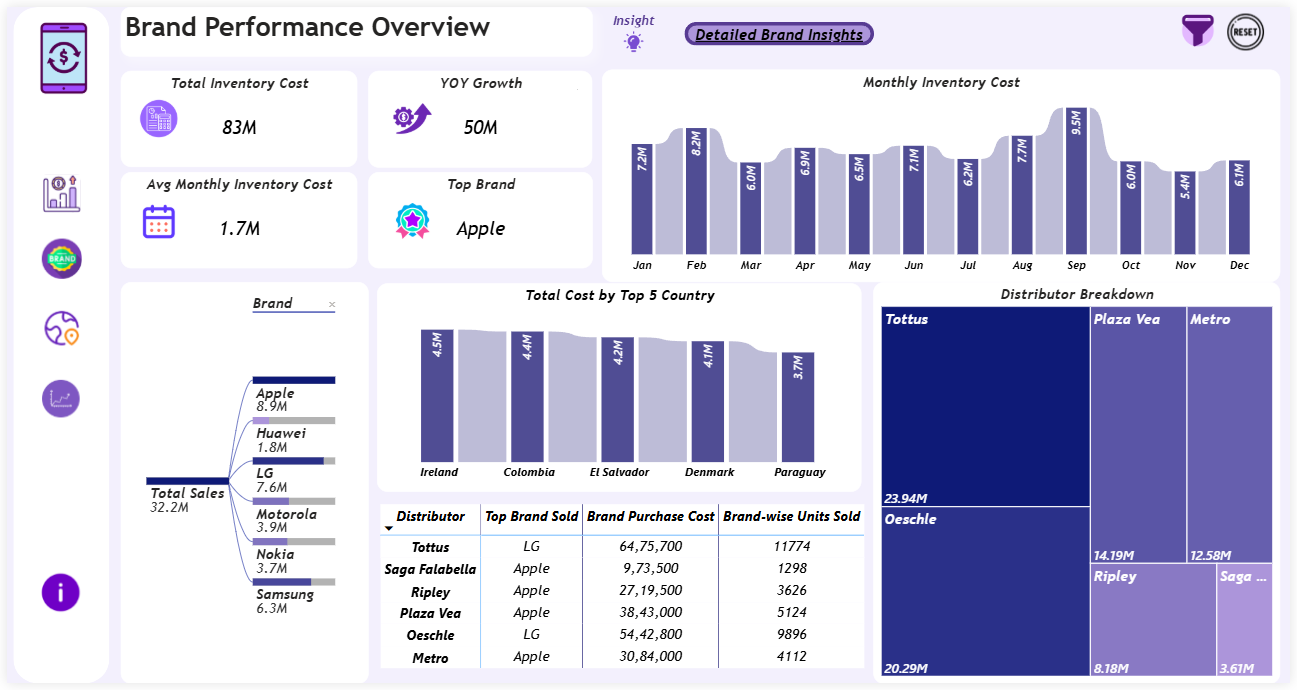

This screenshot's page, from the dashboard's own definition file:
{"tool":"powerbi","page":{"name":"BRAND-OVERVIEW+DRILLTRHOUGH","canvas":[1800,950],"ordinal":1},"visuals":[{"type":"actionButton","box":[228.8,232,2.7,61],"z":0,"group":"g1"},{"type":"actionButton","box":[37.3,232.1,79.7,61.1],"z":0,"group":"g3"},{"type":"pivotTable","title":"Sales by Country & Distributors","fields":{"Rows":["Sales Table.Distributor"],"Values":["Sales Table.Top Brand","Sales Table.Top Brand Purchase Cost","Sales Table.Top Brand Units Sold"]},"box":[519.6,692.9,696.4,257.1],"z":0},{"type":"actionButton","box":[228.8,321.8,2.7,64.4],"z":1000,"group":"g1"},{"type":"actionButton","box":[37.3,322,79.7,64.5],"z":1000,"group":"g3"},{"type":"decompositionTreeVisual","title":"Brand Distribution","fields":{"ExplainBy":["Sales Table.Brand"],"Analyze":["Sales Table.Revenue Generated"]},"box":[158.9,385.7,348.2,564.3],"z":2000},{"type":"actionButton","box":[228.8,421.9,2.7,59.3],"z":2000,"group":"g1"},{"type":"actionButton","box":[37.3,422.1,79.7,59.4],"z":2000,"group":"g3"},{"type":"image","box":[25,21.7,103.3,101.7],"z":3000},{"type":"actionButton","box":[228.3,519.1,3.6,60.7],"z":3000,"group":"g1"},{"type":"actionButton","box":[23.2,519.3,105.4,60.8],"z":3000,"group":"g3"},{"type":"shape","title":"Brand Performance Overview","box":[159.3,0,662.7,69.5],"z":4000},{"type":"actionButton","box":[23.2,785.6,105.4,71.5],"z":4000,"group":"g3"},{"type":"card","title":"Total Inventory Cost","fields":{"Values":["Sales Table.Total Cost"]},"box":[159.3,89.8,332.2,135.6],"z":5000},{"type":"actionButton","box":[228.3,785.2,3.6,71.4],"z":5000,"group":"g1"},{"type":"card","title":"YOY Growth","fields":{"Values":["Date Table.YoY Growth"]},"box":[507.1,89.3,314.3,135.7],"z":6000},{"type":"card","title":"Avg Monthly Inventory Cost","fields":{"Values":["Date Table.Average Monthly Inventory Cost"]},"box":[159.3,232.2,332.2,135.6],"z":7000},{"type":"card","title":"Top Brand","fields":{"Values":["Sales Table.Best Brand"]},"box":[506.8,232.2,315.3,135.6],"z":8000},{"type":"image","box":[180.4,130.4,64.3,53.6],"z":9000},{"type":"image","box":[537.5,273.2,64.3,53.6],"z":10000},{"type":"image","box":[180.4,275,64.3,53.6],"z":11000},{"type":"image","box":[537.5,130.4,64.3,53.6],"z":12000},{"type":"slicer","fields":{"Values":["Date Table.Year"]},"box":[794.7,110.5,12.3,12.3],"z":13000},{"type":"ribbonChart","title":"Monthly Inventory Cost ","fields":{"Category":["Date Table.Month Name"],"Y":["Sales Table.Total Cost"]},"box":[835.7,87.5,951.8,298.2],"z":14000},{"type":"ribbonChart","title":"Total Cost by Top 5 Country","fields":{"Category":["Sales Table.Country"],"Y":["Sales Table.Total Cost"]},"box":[519.6,387.5,680.4,292.9],"z":15000},{"type":"treemap","title":"Distributor Breakdown","fields":{"Values":["Sales Table.Total Cost"],"Group":["Sales Table.Distributor"]},"box":[1216.1,385.7,571.4,564.3],"z":16000},{"type":"group","id":"g1","title":"Group 1","box":[228.3,38.3,55,818.3],"z":17000},{"type":"image","box":[1635,0,73.3,66.7],"z":18000},{"type":"pageNavigator","box":[950,21.7,266.7,33.3],"z":19000},{"type":"actionButton","box":[1689.5,5.3,98.2,59.6],"z":20000},{"type":"image","box":[857.1,33.3,42.9,30.2],"z":21000},{"type":"textbox","title":"Insight","box":[838.1,6.3,82.5,28.6],"z":22000},{"type":"group","id":"g2","title":"Group 2","box":[1347.2,57.8,452,178.9],"z":23000},{"type":"shape","box":[9.5,0,134.9,949.2],"z":24000},{"type":"group","id":"g3","title":"Group 1","box":[23.2,232.1,105.4,625],"z":25000},{"type":"image","box":[28.6,21.4,103.6,101.8],"z":26000}]}

Visuals, with their boxes in screenshot pixels (x1, y1, x2, y2), scaled from the page's 1800x950 canvas onto the 1297x690 screenshot:
actionButton: detection(165, 169, 167, 213)
actionButton: detection(27, 169, 84, 213)
"Sales by Country & Distributors" pivotTable: detection(374, 503, 876, 689)
actionButton: detection(165, 234, 167, 281)
actionButton: detection(27, 234, 84, 281)
"Brand Distribution" decompositionTreeVisual: detection(114, 280, 365, 689)
actionButton: detection(165, 306, 167, 350)
actionButton: detection(27, 307, 84, 350)
image: detection(18, 16, 92, 90)
actionButton: detection(165, 377, 167, 421)
actionButton: detection(17, 377, 93, 421)
"Brand Performance Overview" shape: detection(115, 0, 592, 50)
actionButton: detection(17, 571, 93, 623)
"Total Inventory Cost" card: detection(115, 65, 354, 164)
actionButton: detection(165, 570, 167, 622)
"YOY Growth" card: detection(365, 65, 592, 163)
"Avg Monthly Inventory Cost" card: detection(115, 169, 354, 267)
"Top Brand" card: detection(365, 169, 592, 267)
image: detection(130, 95, 176, 134)
image: detection(387, 198, 434, 237)
image: detection(130, 200, 176, 239)
image: detection(387, 95, 434, 134)
slicer - Date Table.Year: detection(573, 80, 581, 89)
"Monthly Inventory Cost " ribbonChart: detection(602, 64, 1288, 280)
"Total Cost by Top 5 Country" ribbonChart: detection(374, 281, 865, 494)
"Distributor Breakdown" treemap: detection(876, 280, 1288, 689)
"Group 1" group: detection(165, 28, 204, 622)
image: detection(1178, 0, 1231, 48)
pageNavigator: detection(685, 16, 877, 40)
actionButton: detection(1217, 4, 1288, 47)
image: detection(618, 24, 648, 46)
"Insight" textbox: detection(604, 5, 663, 25)
"Group 2" group: detection(971, 42, 1296, 172)
shape: detection(7, 0, 104, 689)
"Group 1" group: detection(17, 169, 93, 623)
image: detection(21, 16, 95, 89)
